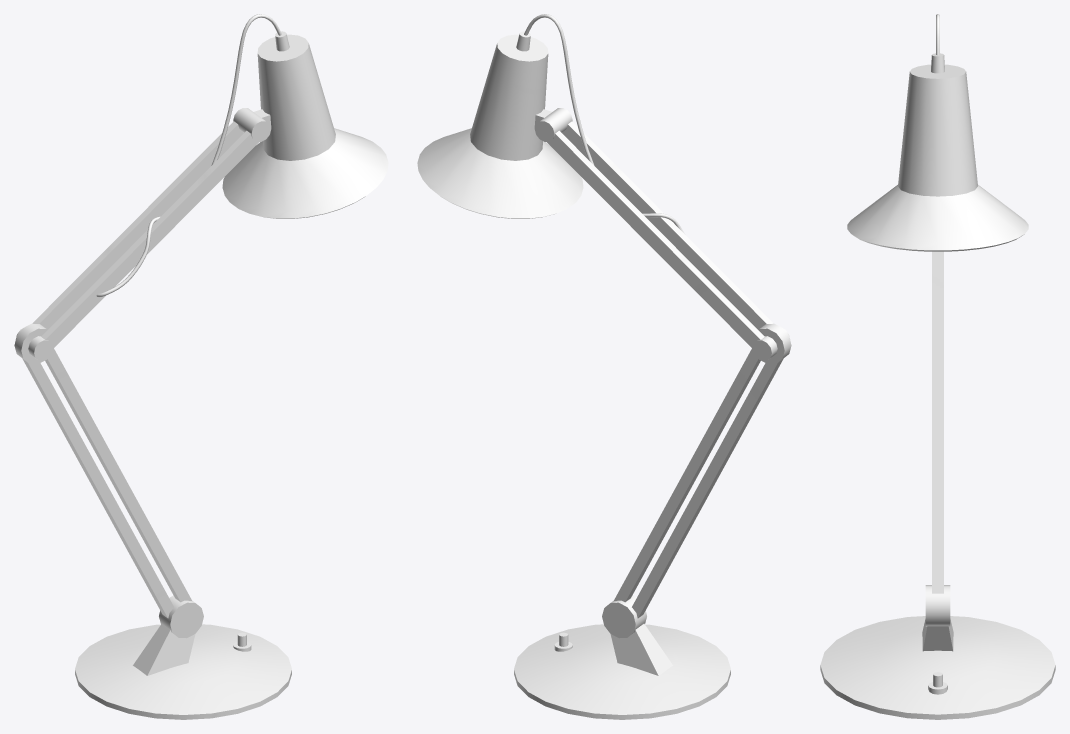
File: lamp.glb
3 renders of one model, left to right at view 1: azimuth 30°, elevation 25°; view 2: azimuth 150°, elevation 25°; view 3: azimuth 270°, elevation 25°, orthographic. The views are drawn at different scales.
Parts seen in each view (by area): view 1: lamp_a_0; view 2: lamp_a_0; view 3: lamp_a_0.
Boxes of the visible parts, x1,y1,x2,y2 form: lamp_a_0: [14, 14, 388, 719]; lamp_a_0: [417, 14, 791, 719]; lamp_a_0: [820, 14, 1055, 719].
Bounding box in the file's own units: 3.36 × 5.73 × 1.76.
Materials: 1 (1 with a texture image).
